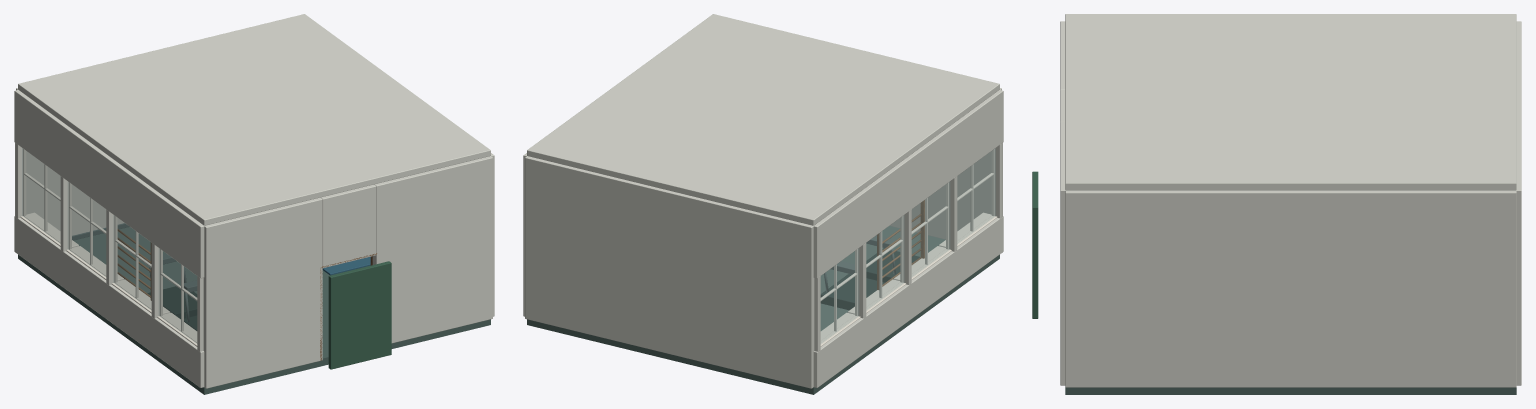
The picture shows the model from 3 angles, left to right: view 1: azimuth 30°, elevation 25°; view 2: azimuth 150°, elevation 25°; view 3: azimuth 270°, elevation 25°; orthographic projection. The views are drawn at different scales.
Visible parts, largest first — view 1: 3-2__architecture_and_equipment; view 2: 3-2__architecture_and_equipment; view 3: 3-2__architecture_and_equipment.
Boxes of the visible parts, x1=… form: 3-2__architecture_and_equipment: x1=14, y1=14, x2=494, y2=394; 3-2__architecture_and_equipment: x1=523, y1=14, x2=1003, y2=394; 3-2__architecture_and_equipment: x1=1032, y1=14, x2=1521, y2=394.
Bounding box in the file's own units: 8.2 × 4.66 × 9.76.
Materials: 12 (1 with a texture image).
